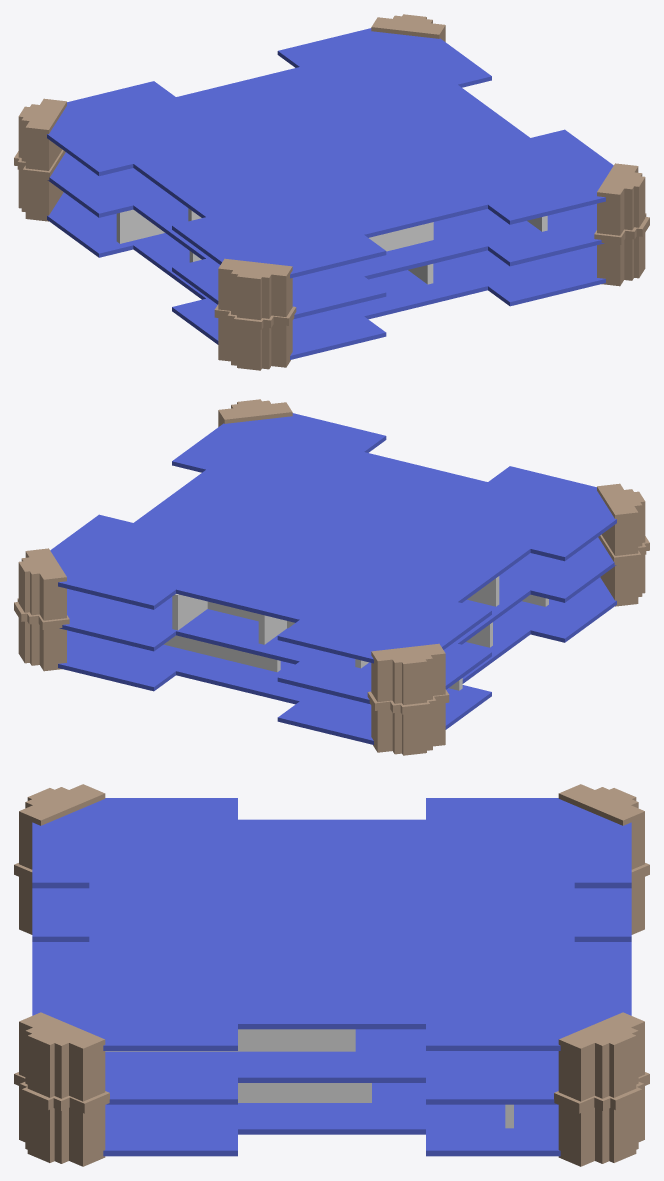
Rendered from mdl_floor_25x25.fbx.
3 views of the same model, one above another, from view 1: azimuth 30°, elevation 25°; view 2: azimuth 150°, elevation 25°; view 3: azimuth 270°, elevation 25° (orthographic). The views are drawn at different scales.
Visible parts, largest first — view 1: ground, Corner_pillar.002, ground.002, ground.001, Walls.002, Walls; view 2: ground, Corner_pillar.002, ground.002, ground.001, Walls, Walls.002; view 3: ground, Corner_pillar.002, ground.002, ground.001, Walls.002, Walls.
Part boxes in pixels (box(x1,y1,x2,y2)): ground: box(47, 28, 613, 278); Corner_pillar.002: box(14, 14, 649, 370); ground.002: box(47, 152, 604, 318); ground.001: box(47, 192, 605, 359); Walls.002: box(116, 209, 433, 284); Walls: box(188, 208, 547, 251); ground: box(50, 413, 616, 663); Corner_pillar.002: box(14, 399, 649, 755); ground.002: box(59, 537, 616, 703); ground.001: box(58, 577, 616, 744); Walls: box(172, 576, 499, 668); Walls.002: box(164, 594, 548, 690); ground: box(32, 798, 631, 1050); Corner_pillar.002: box(14, 784, 649, 1166); ground.002: box(32, 888, 631, 1104); ground.001: box(32, 942, 631, 1156); Walls.002: box(238, 1083, 513, 1128); Walls: box(105, 1029, 355, 1051).
Bounding box in the file's own units: 26.83 × 5.5 × 26.83.
